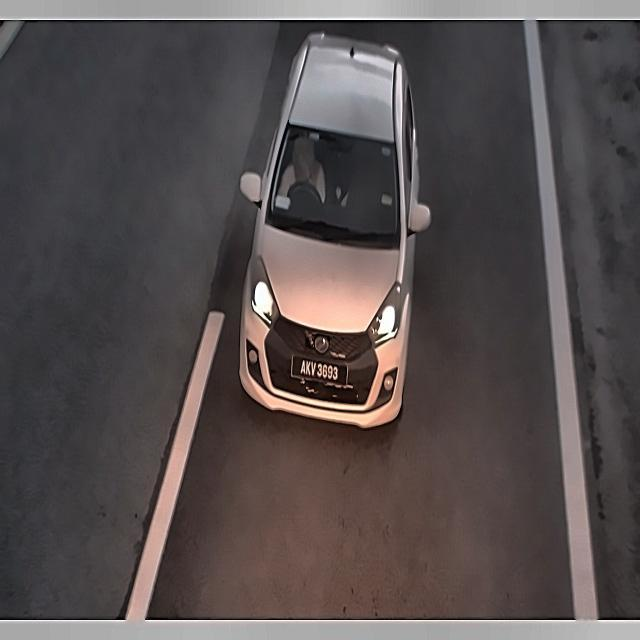car: (288, 352, 352, 388)
